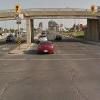Bridge: (2, 4, 97, 30)
